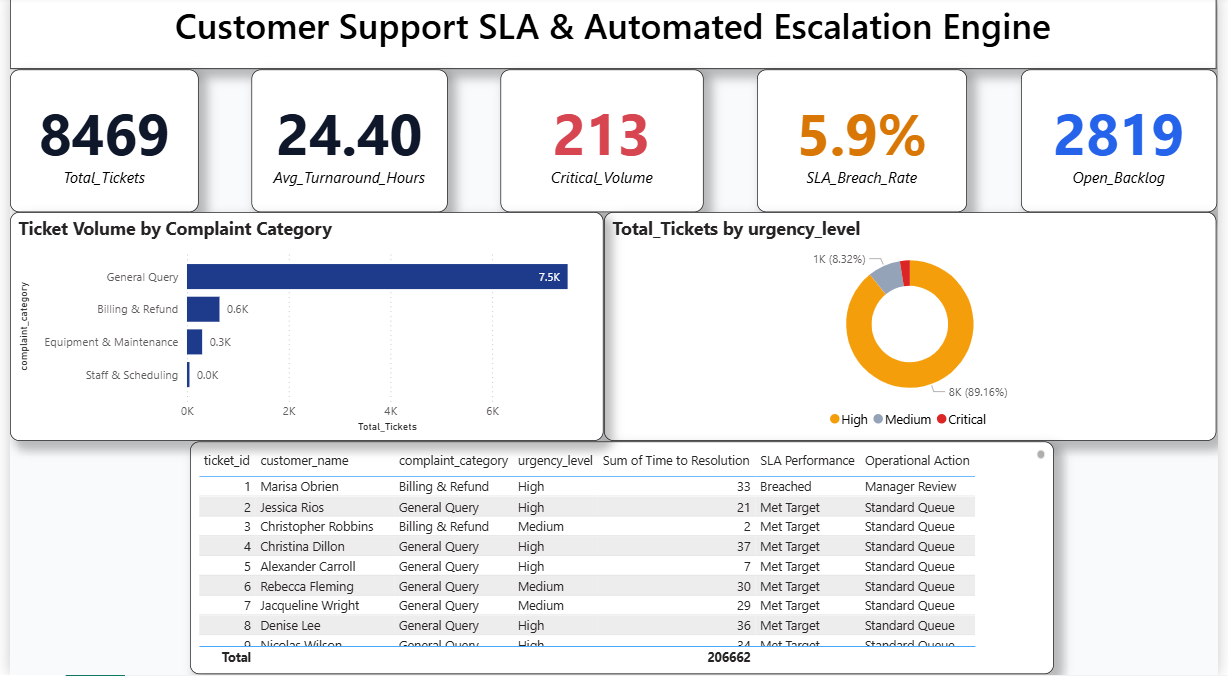

Layout of this report page (visuals, bound fields, positions):
{"tool":"powerbi","page":{"name":"Page 1","canvas":[1280,720],"ordinal":0},"visuals":[{"type":"textbox","box":[0,0,1279.4,77.5],"z":0},{"type":"card","fields":{"Values":["tickets_processed_clean (2).Total_Tickets"]},"box":[0,77.5,200.3,151.2],"z":1000},{"type":"card","fields":{"Values":["tickets_processed_clean (2).Critical_Volume"]},"box":[520.6,77.5,215.4,151.2],"z":2000},{"type":"card","fields":{"Values":["tickets_processed_clean (2).Open_Backlog"]},"box":[1071.5,77.5,207.9,151.2],"z":3000},{"type":"card","fields":{"Values":["tickets_processed_clean (2).Avg_Turnaround_Hours"]},"box":[256.5,77.5,207.9,151.2],"z":4000},{"type":"card","fields":{"Values":["tickets_processed_clean (2).SLA_Breach_Rate"]},"box":[792.3,77.5,223,151.2],"z":5000},{"type":"donutChart","fields":{"Category":["tickets_processed_clean (2).urgency_level"],"Y":["tickets_processed_clean (2).Total_Tickets"]},"box":[629.4,229,649.3,243],"z":6000},{"type":"tableEx","fields":{"Values":["tickets_processed_clean (2).ticket_id","tickets_processed_clean (2).customer_name","tickets_processed_clean (2).complaint_category","tickets_processed_clean (2).urgency_level","Sum(tickets_processed_clean (2).Time to Resolution)","tickets_processed_clean (2).SLA Performance","tickets_processed_clean (2).Operational Action"]},"box":[191.2,472,916.2,247],"z":7000},{"type":"clusteredBarChart","title":"Ticket Volume by Complaint Category","fields":{"Category":["tickets_processed_clean (2).complaint_category"],"Y":["tickets_processed_clean (2).Total_Tickets"]},"box":[0,229,629.4,243],"z":8000}]}

Visuals, with their boxes in screenshot pixels (x1, y1, x2, y2), scaled from the page's 1280x720 canvas onto the 1228x676 screenshot:
textbox: 0:0:1227:73
card - tickets_processed_clean (2).Total_Tickets: 0:73:192:215
card - tickets_processed_clean (2).Critical_Volume: 499:73:706:215
card - tickets_processed_clean (2).Open_Backlog: 1028:73:1227:215
card - tickets_processed_clean (2).Avg_Turnaround_Hours: 246:73:446:215
card - tickets_processed_clean (2).SLA_Breach_Rate: 760:73:974:215
donutChart - tickets_processed_clean (2).urgency_level x tickets_processed_clean (2).Total_Tickets: 604:215:1227:443
tableEx - tickets_processed_clean (2).ticket_id x tickets_processed_clean (2).customer_name: 183:443:1062:675
"Ticket Volume by Complaint Category" clusteredBarChart: 0:215:604:443
